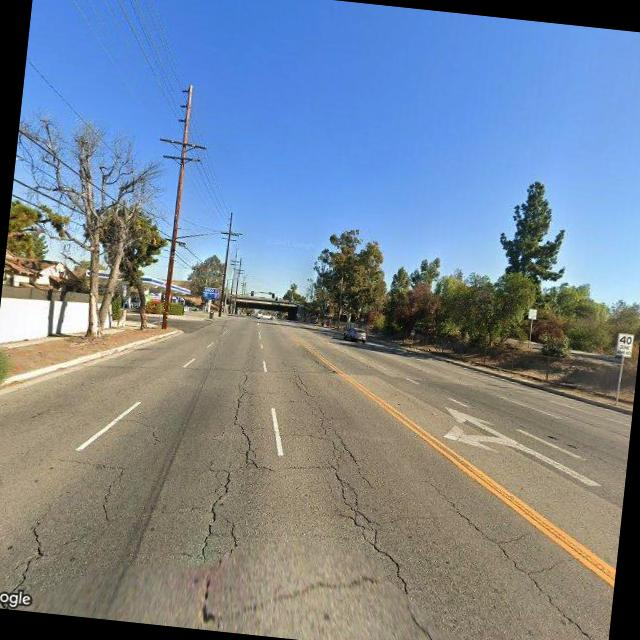crack: (176, 357, 437, 636), (405, 469, 619, 640), (3, 497, 57, 595), (97, 461, 125, 522)
